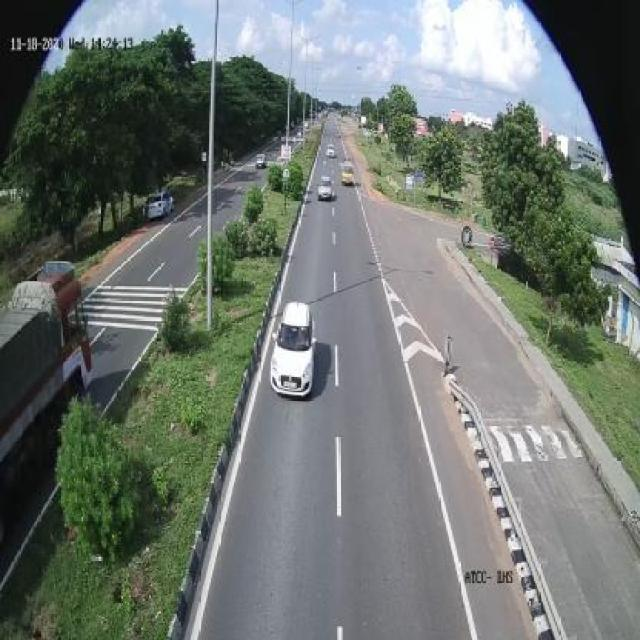car: (274, 298, 318, 400), (145, 182, 169, 223), (317, 171, 334, 206), (338, 160, 357, 188), (250, 150, 268, 172), (323, 142, 339, 163)
